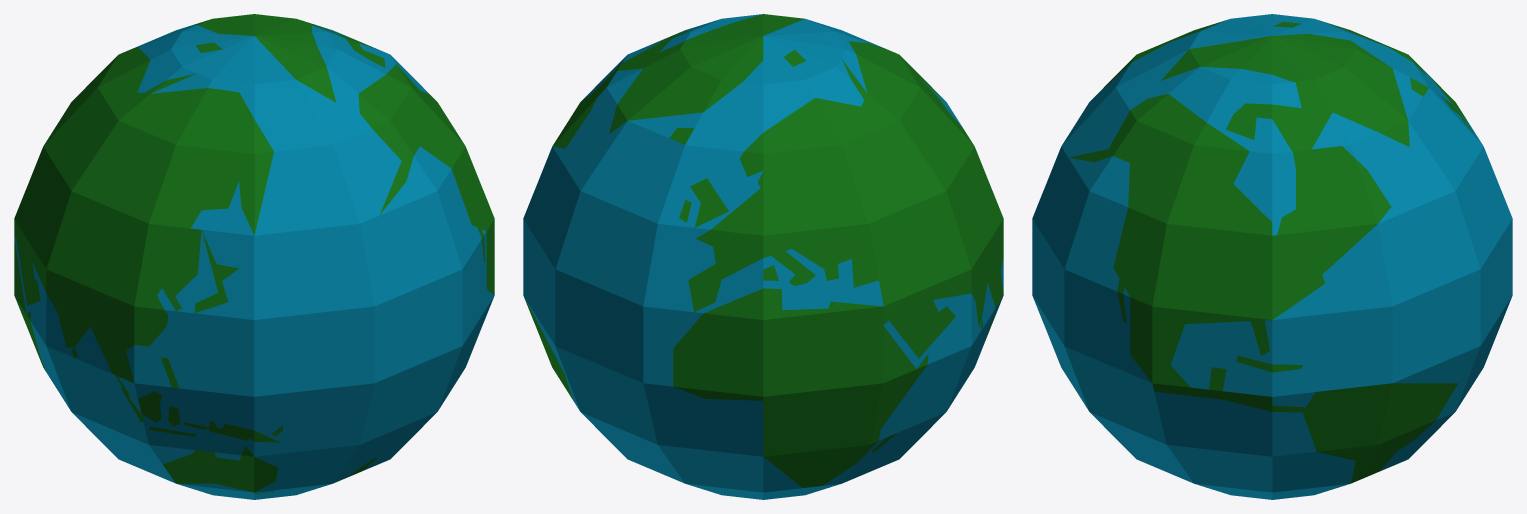
The model's file is Earth.obj.
3 renders of one model, left to right at view 1: azimuth 30°, elevation 25°; view 2: azimuth 150°, elevation 25°; view 3: azimuth 270°, elevation 25°, orthographic.
Parts seen in each view (by area): view 1: group1519172617; view 2: group1519172617; view 3: group1519172617.
Part boxes in pixels (x1=…): group1519172617: x1=14, y1=14, x2=494, y2=499; group1519172617: x1=523, y1=14, x2=1003, y2=499; group1519172617: x1=1032, y1=14, x2=1512, y2=499.
Bounding box in the file's own units: 1.37 × 1.39 × 1.37.
